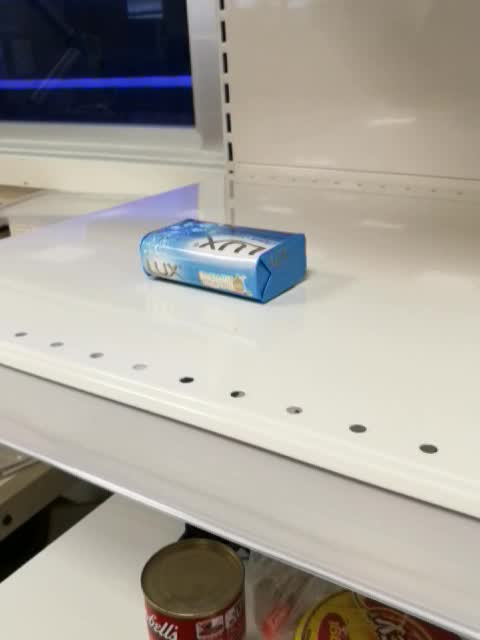soap: (137, 218, 308, 307)
